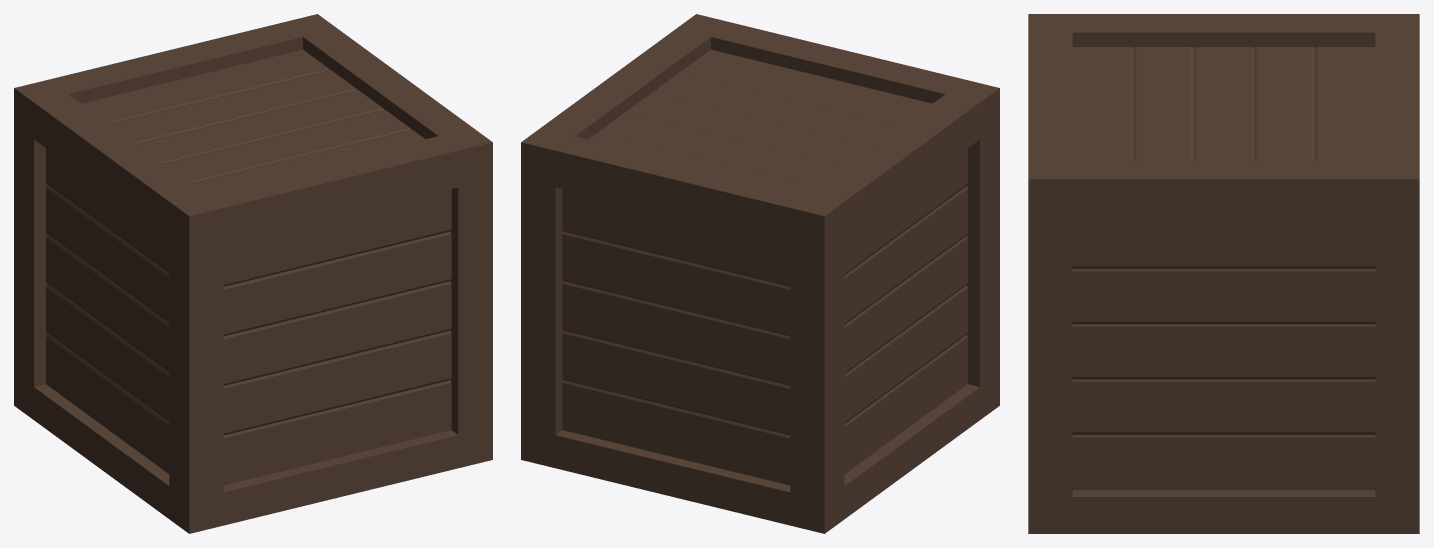
Rendered from MDL_Crate.fbx.
3 renders of one model, left to right at view 1: azimuth 30°, elevation 25°; view 2: azimuth 150°, elevation 25°; view 3: azimuth 270°, elevation 25°, orthographic. The views are drawn at different scales.
Parts seen in each view (by area): view 1: Crate_HP; view 2: Crate_HP; view 3: Crate_HP.
Part boxes in pixels (x1,y1,x2,y2): Crate_HP: [14, 14, 492, 533]; Crate_HP: [521, 14, 999, 533]; Crate_HP: [1028, 14, 1419, 533].
Size of the model in its own units: 71.45 by 71.45 by 71.45.
